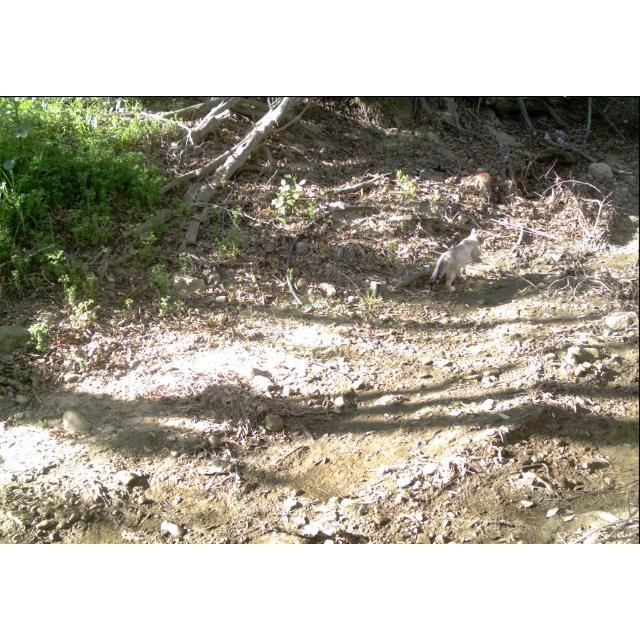animals: (428, 230, 484, 296)
